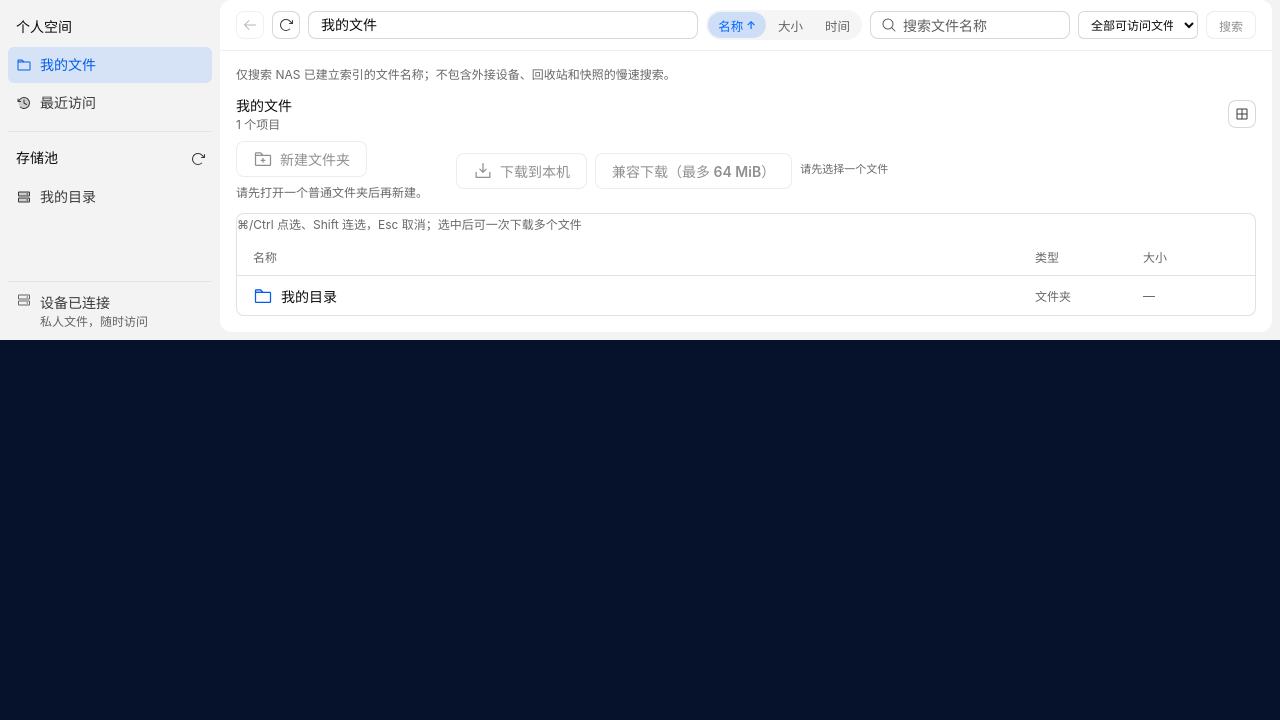
changing the file directory clears the old selected-file download action
Step 1. Click the button named "我的目录文件夹" → point(309, 296), box [237,275,1255,315]
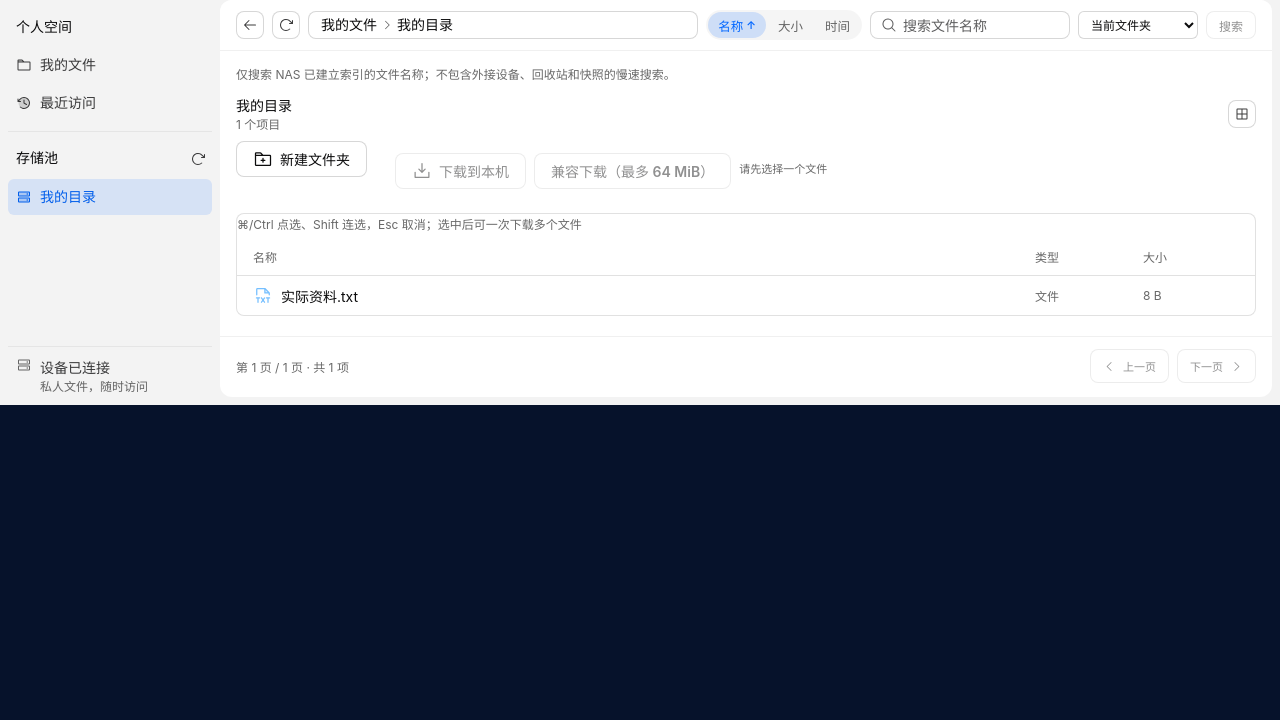
Step 2. Click the button "实际资料.txt 文件 8 B" → point(320, 296), box [237,275,1255,315]
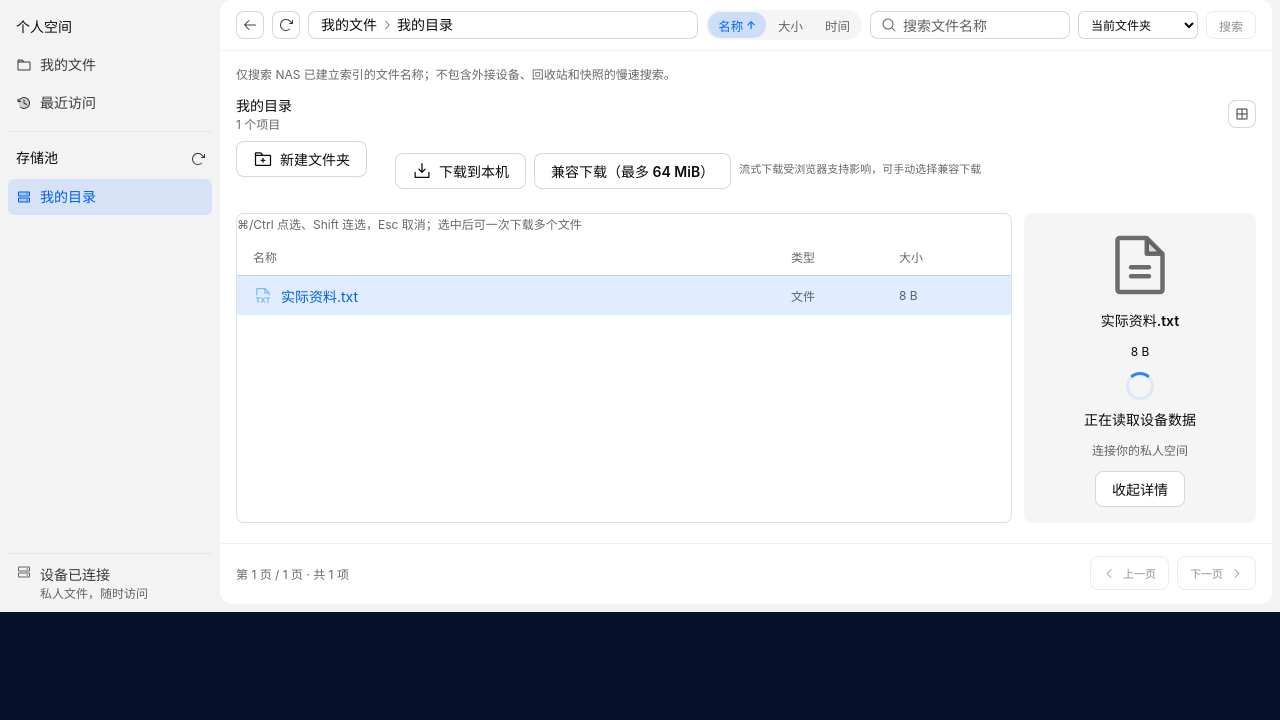
Check: the button "下载到本机" is enabled, box [395,153,526,189]
Step 3. Click the button named "返回上一级" → point(250, 25), box [236,11,264,39]
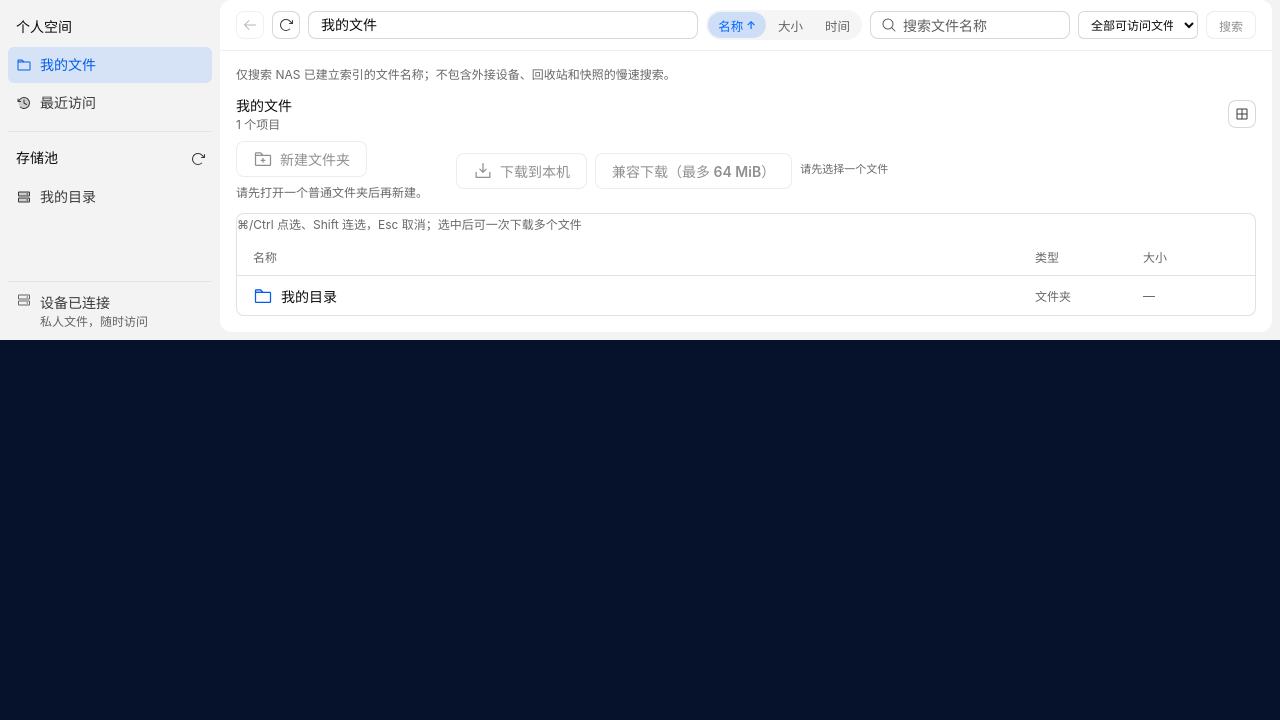
Check: the button named "我的目录文件夹" is shown, box [237,275,1255,315]
Check: the button "下载到本机" is disabled, box [456,153,587,189]
